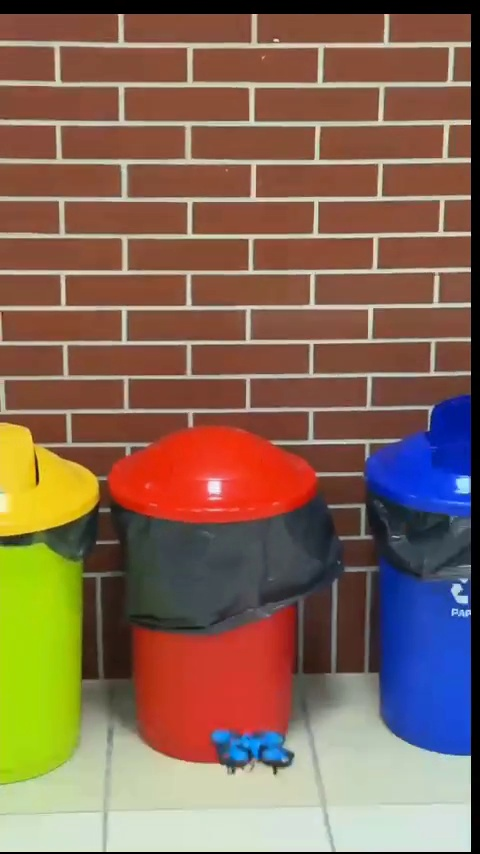drone: (210, 728, 293, 771)
